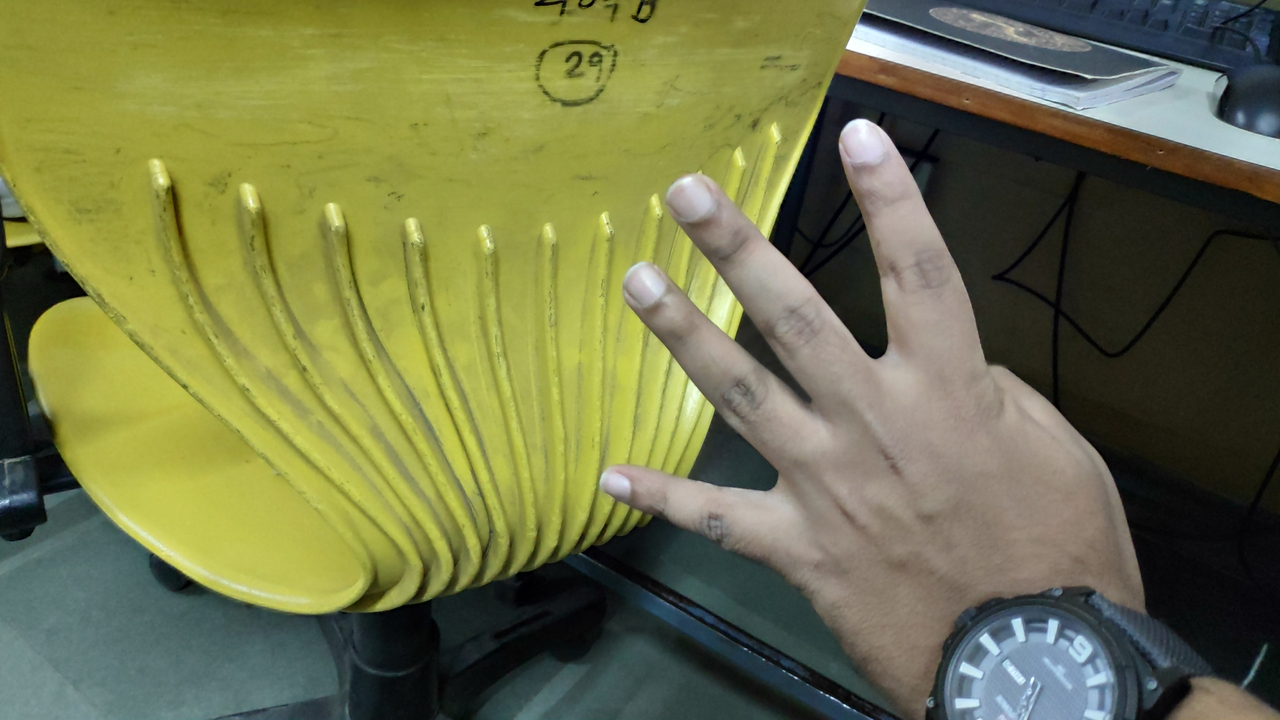fingertip: (830, 110, 906, 180), (658, 166, 730, 230), (616, 252, 678, 322), (591, 460, 639, 503)
